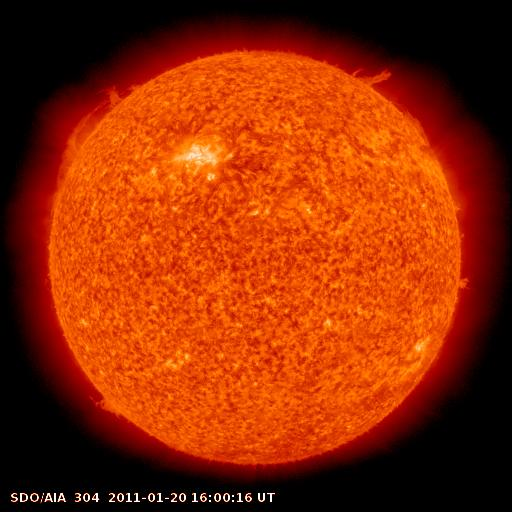prominence: (49, 79, 150, 186), (78, 384, 142, 430), (344, 51, 398, 97), (441, 261, 483, 304), (404, 106, 436, 147)
